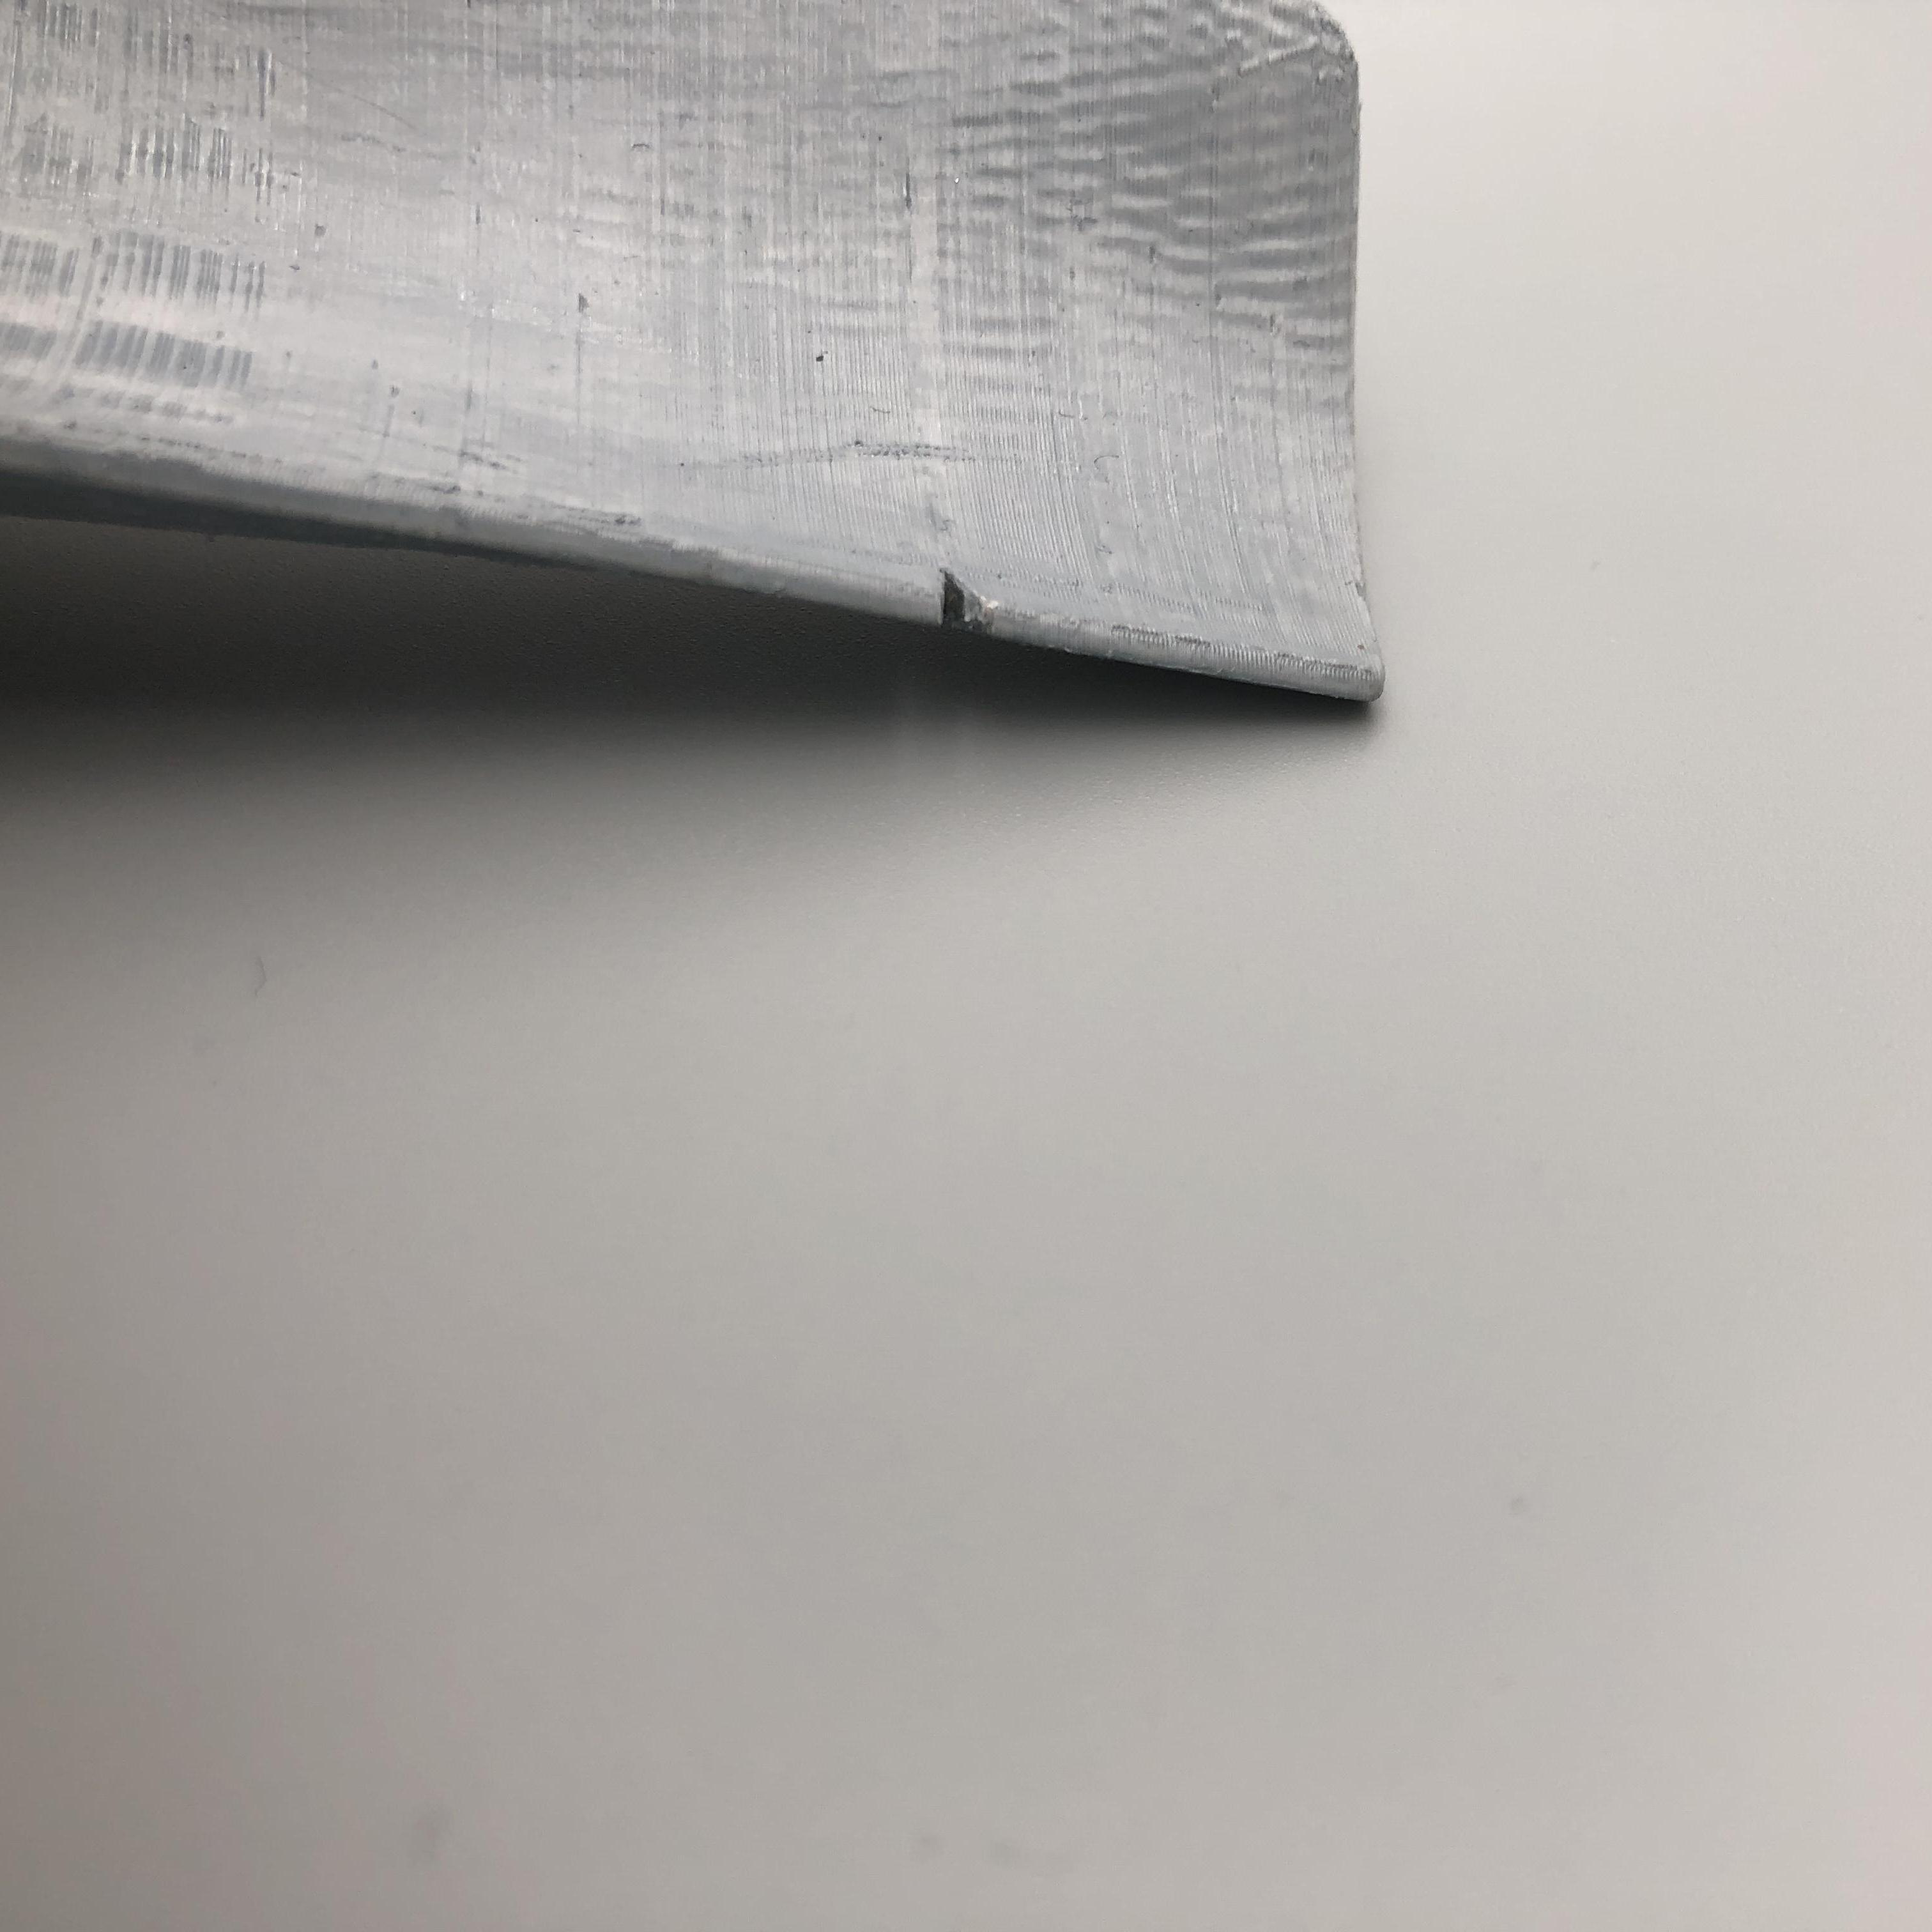groove: (922, 570, 1005, 630)
